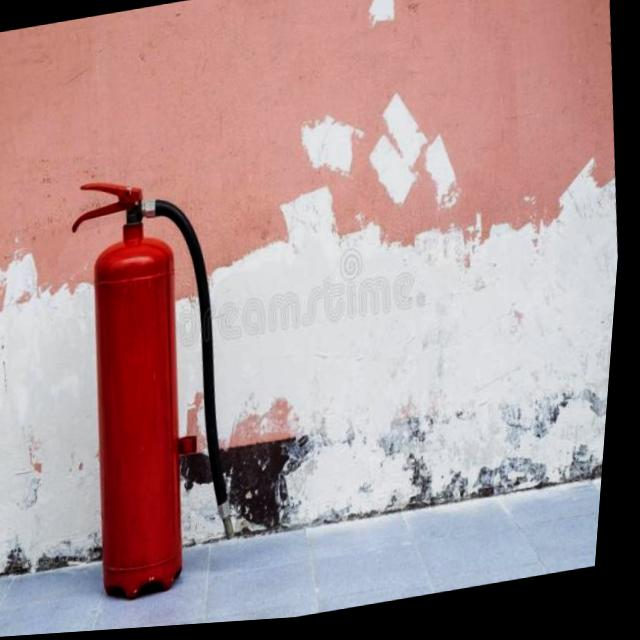FireExtinguisher: (44, 157, 273, 614)
